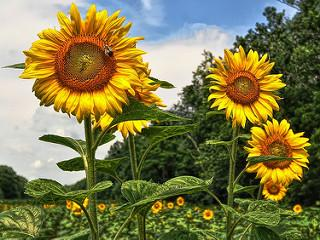sunflower: (24, 4, 151, 122), (207, 47, 284, 121), (249, 119, 310, 182), (263, 179, 287, 200)
